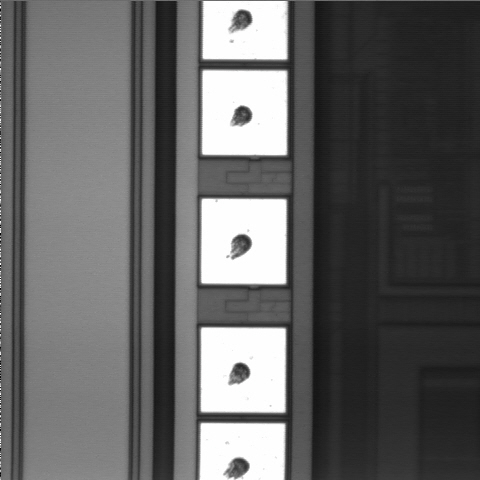pad: (201, 199, 287, 284), (201, 327, 286, 413), (202, 70, 287, 155)
